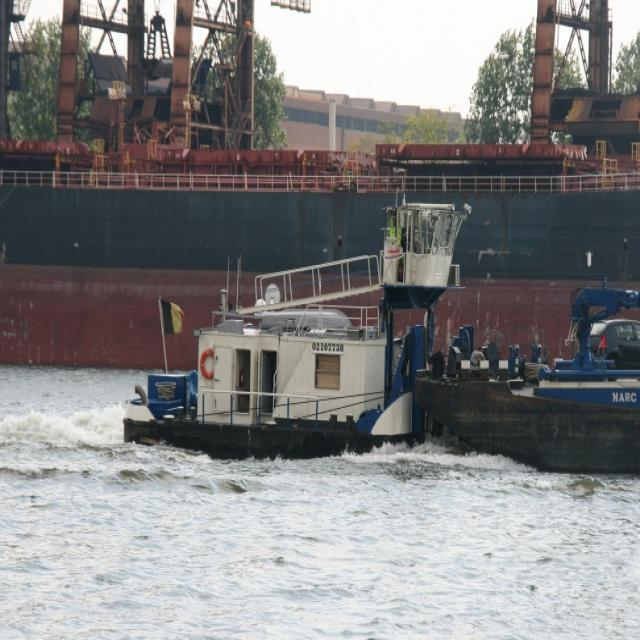tugboat: (121, 193, 478, 485)
